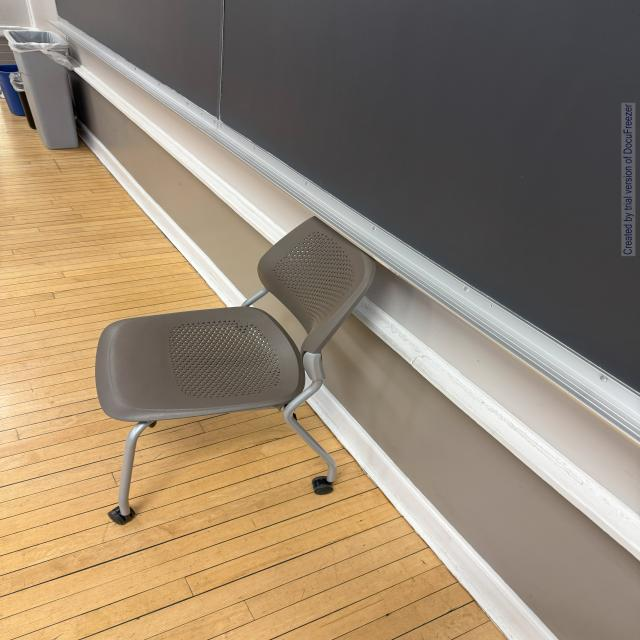Trash bin: (2, 30, 97, 172)
chair: (69, 212, 401, 528)
